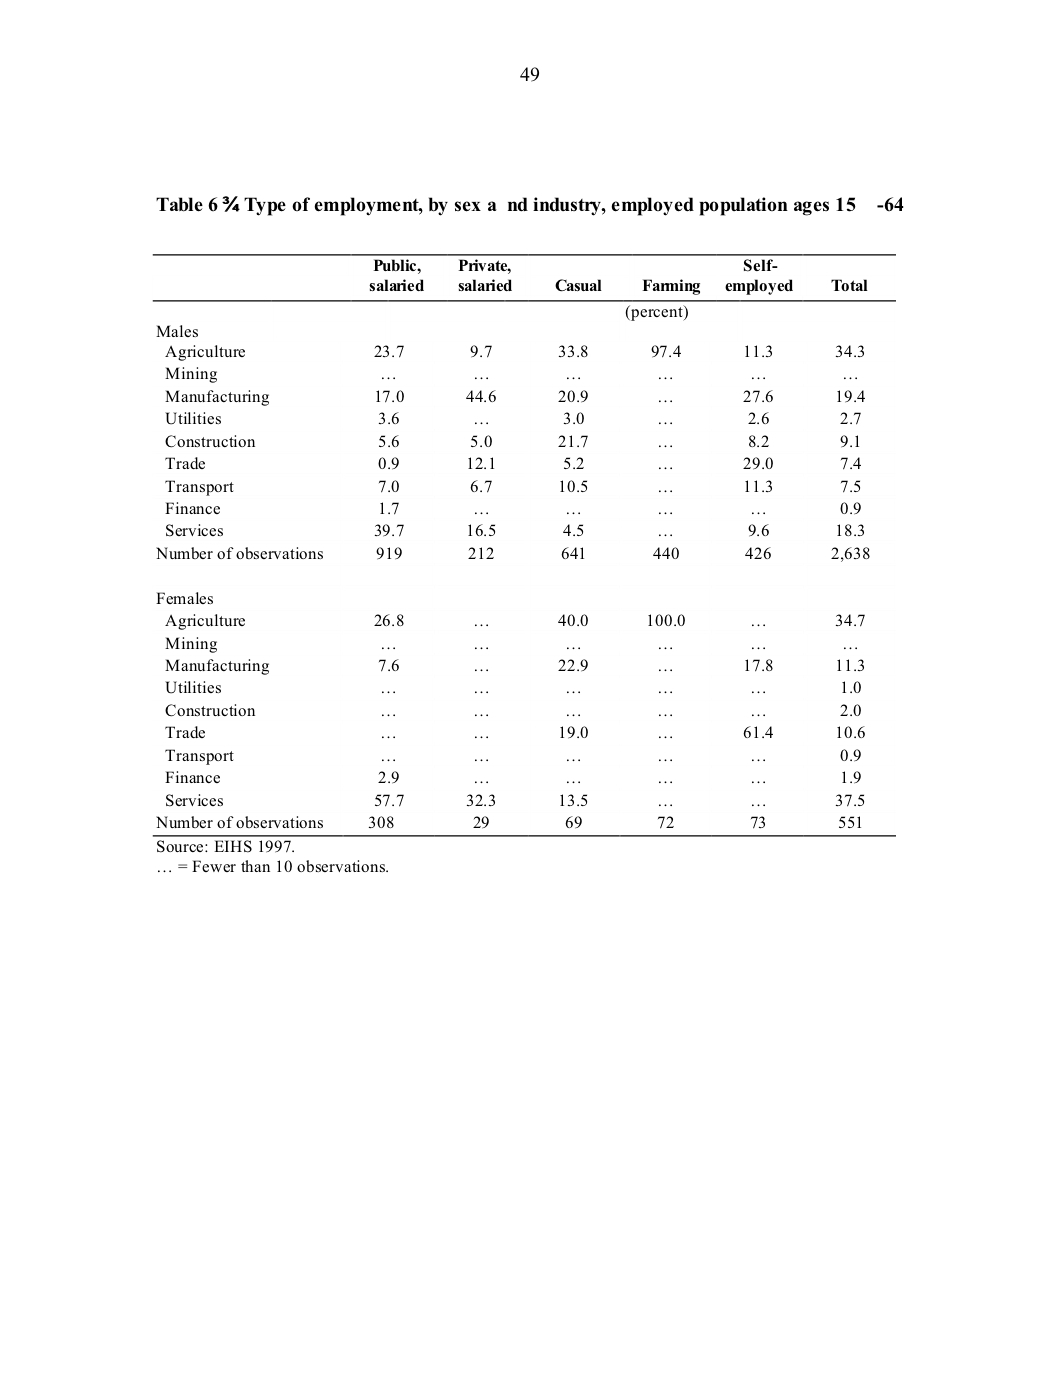Table: (152, 254, 895, 836)
